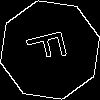F: (25, 25, 76, 67)
